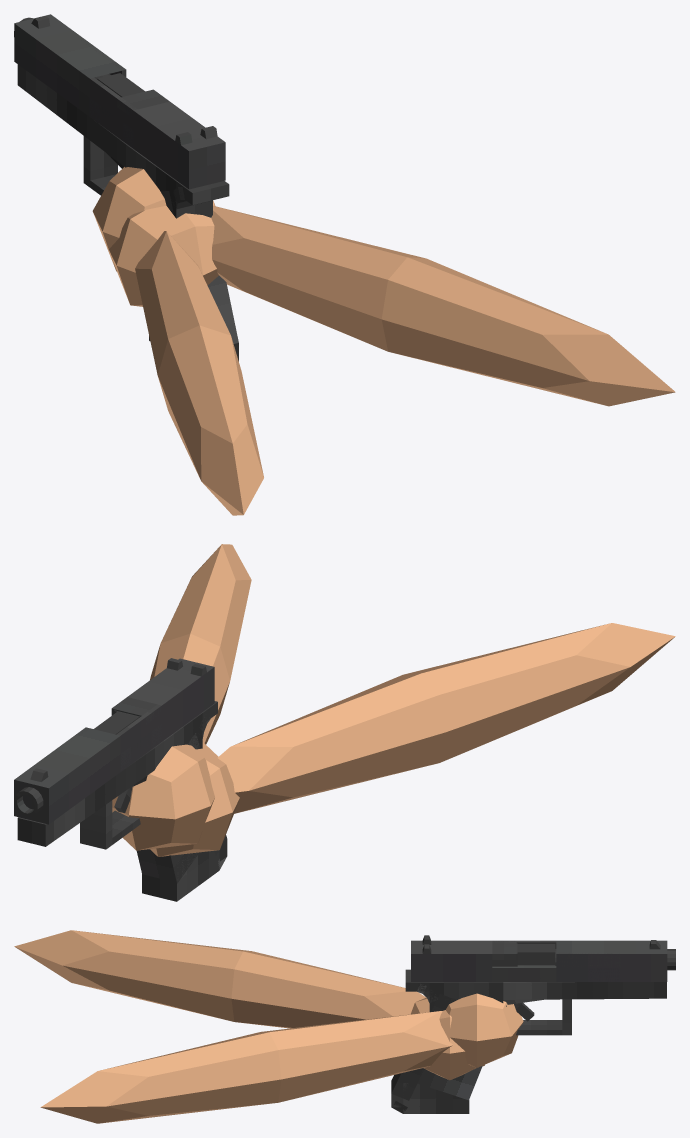
3 renders of one model, top to bottom at view 1: azimuth 30°, elevation 25°; view 2: azimuth 150°, elevation 25°; view 3: azimuth 270°, elevation 25°, orthographic. The views are drawn at different scales.
Visible parts, largest first — view 1: arm_right, hand_left (×2), cube (×8), arm_left; view 2: hand_left (×2), cube (×11), arm_right, arm_left, gasport; view 3: hand_left (×2), arm_right, cube (×13), arm_left, gasport.
Boxes of the visible parts, x1,y1,x2,y2 form: arm_right: (211, 205, 675, 406); hand_left (×2): (92, 167, 263, 515); cube (×8): (14, 14, 238, 343); arm_left: (109, 200, 218, 306); hand_left (×2): (112, 623, 675, 850); cube (×11): (14, 658, 219, 901); arm_right: (150, 544, 251, 744); arm_left: (150, 742, 239, 856); gasport: (94, 711, 139, 734); hand_left (×2): (14, 930, 523, 1067); arm_right: (40, 1011, 452, 1123); cube (×13): (391, 940, 667, 1113); arm_left: (411, 997, 484, 1080); gasport: (517, 944, 555, 965).
Size of the model in its own units: 0.3838 by 0.184 by 0.6669.
4 materials, 3 textured.
